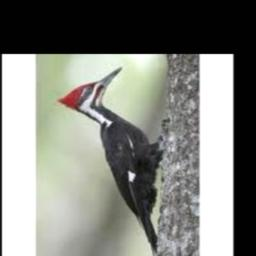Woodpecker: (56, 67, 164, 256)
